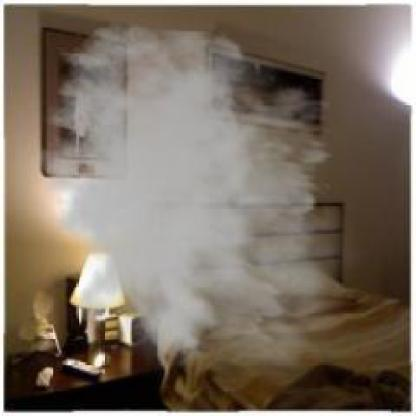Smoke: (20, 23, 372, 390)
